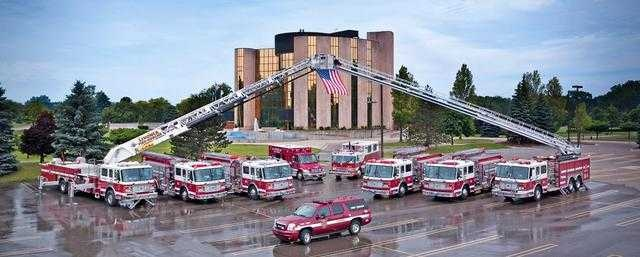Fire Truck: (34, 152, 155, 218), (145, 141, 240, 218), (485, 155, 616, 206), (197, 143, 286, 197), (416, 154, 501, 204), (257, 137, 339, 187), (364, 152, 421, 195), (334, 136, 380, 174)
